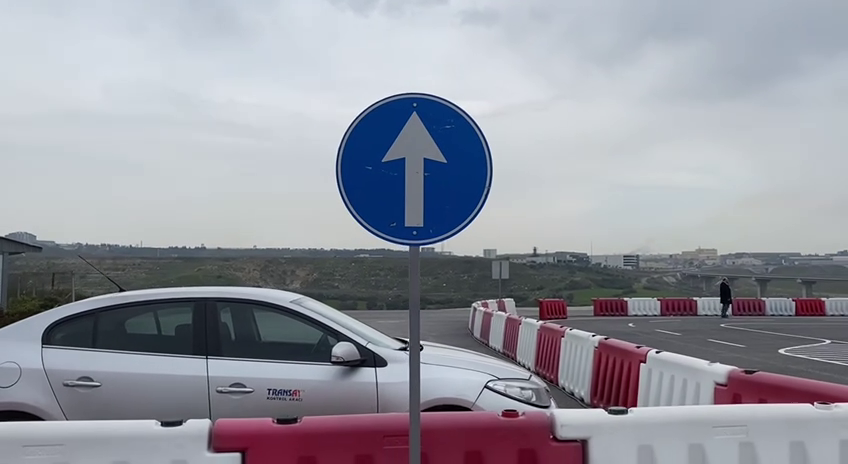forward: (331, 85, 497, 250)
